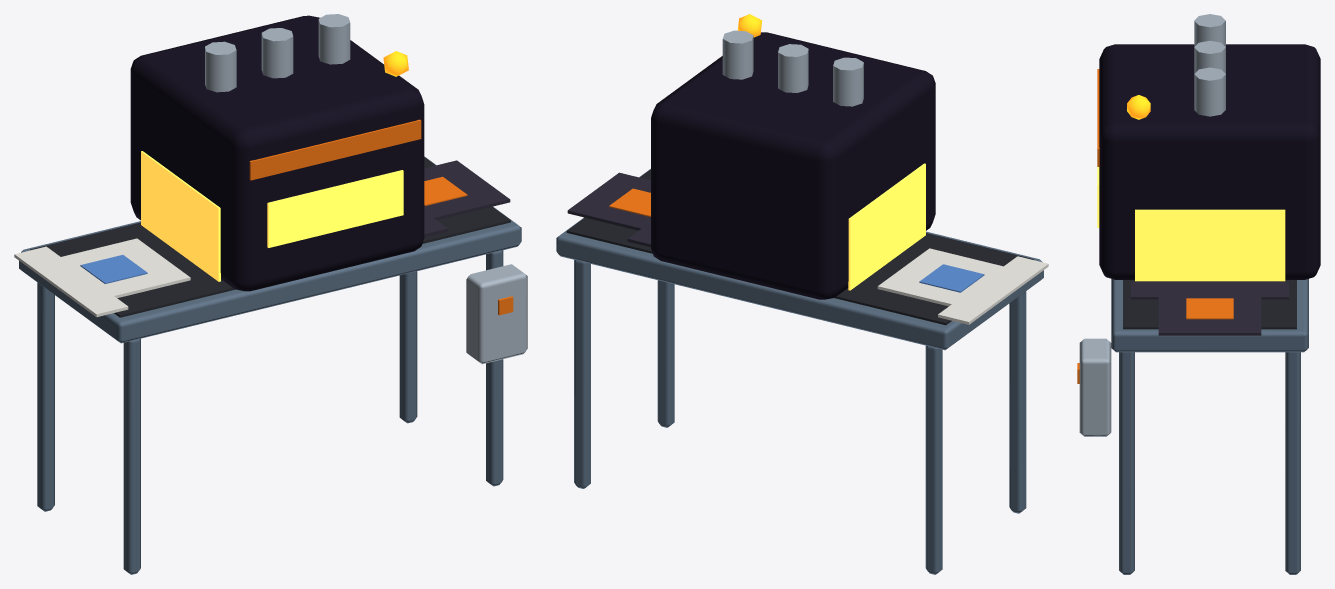
The model's file is station_buffer_ausstattung_3_3.glb.
3 views of the same model, side by side, from view 1: azimuth 30°, elevation 25°; view 2: azimuth 150°, elevation 25°; view 3: azimuth 270°, elevation 25° (orthographic). The views are drawn at different scales.
Parts seen in each view (by area): view 1: station_buffer_ausstattung_3_3; view 2: station_buffer_ausstattung_3_3; view 3: station_buffer_ausstattung_3_3.
Boxes of the visible parts, bbox=[...] form: station_buffer_ausstattung_3_3: bbox=[14, 14, 527, 574]; station_buffer_ausstattung_3_3: bbox=[556, 14, 1048, 574]; station_buffer_ausstattung_3_3: bbox=[1077, 14, 1320, 574].
Bounding box in the file's own units: 1.2 × 1.24 × 0.616.
